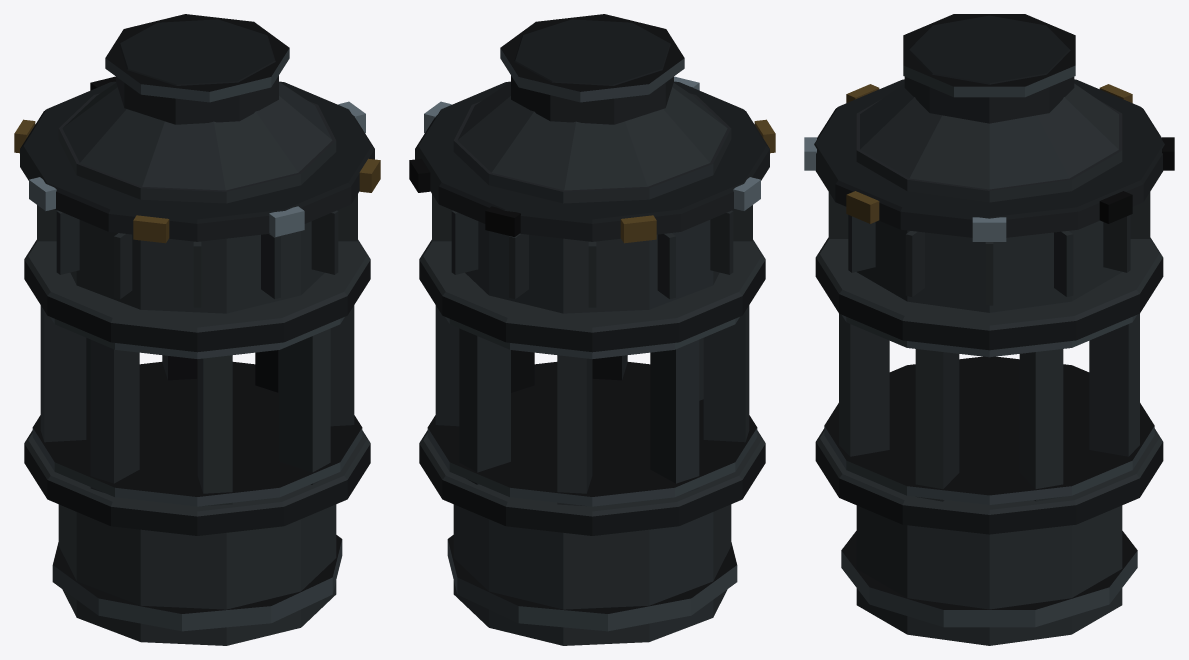
The model's file is lp_core_column.glb.
3 renders of one model, left to right at view 1: azimuth 30°, elevation 25°; view 2: azimuth 150°, elevation 25°; view 3: azimuth 270°, elevation 25°, orthographic.
Parts seen in each view (by area): view 1: lp_core_column; view 2: lp_core_column; view 3: lp_core_column.
Boxes of the visible parts, bbox=[...] form: lp_core_column: bbox=[14, 14, 380, 645]; lp_core_column: bbox=[409, 14, 775, 645]; lp_core_column: bbox=[804, 14, 1174, 645].
Size of the model in its own units: 1.75 by 2.8 by 1.75.
Materials: 1 (1 with a texture image).
